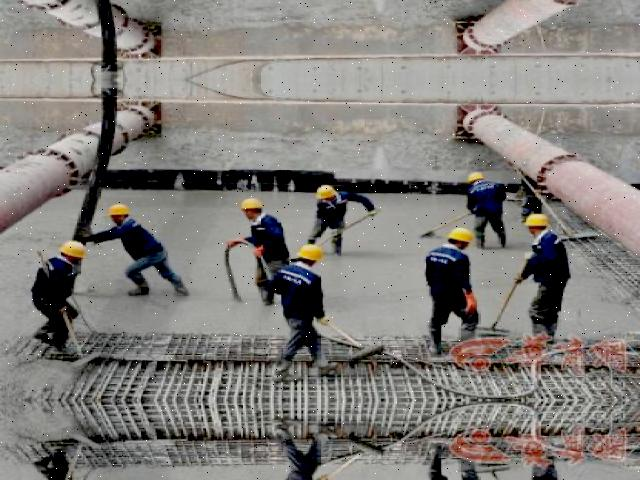Helmet: (443, 223, 477, 250), (519, 207, 552, 234), (51, 238, 88, 260), (291, 240, 323, 264), (101, 200, 131, 222), (234, 194, 265, 215), (308, 180, 336, 202), (460, 167, 486, 184)
